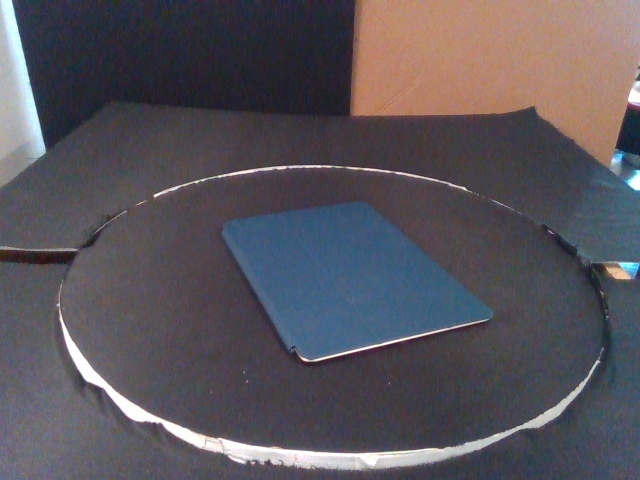laptop: (219, 199, 495, 366)
